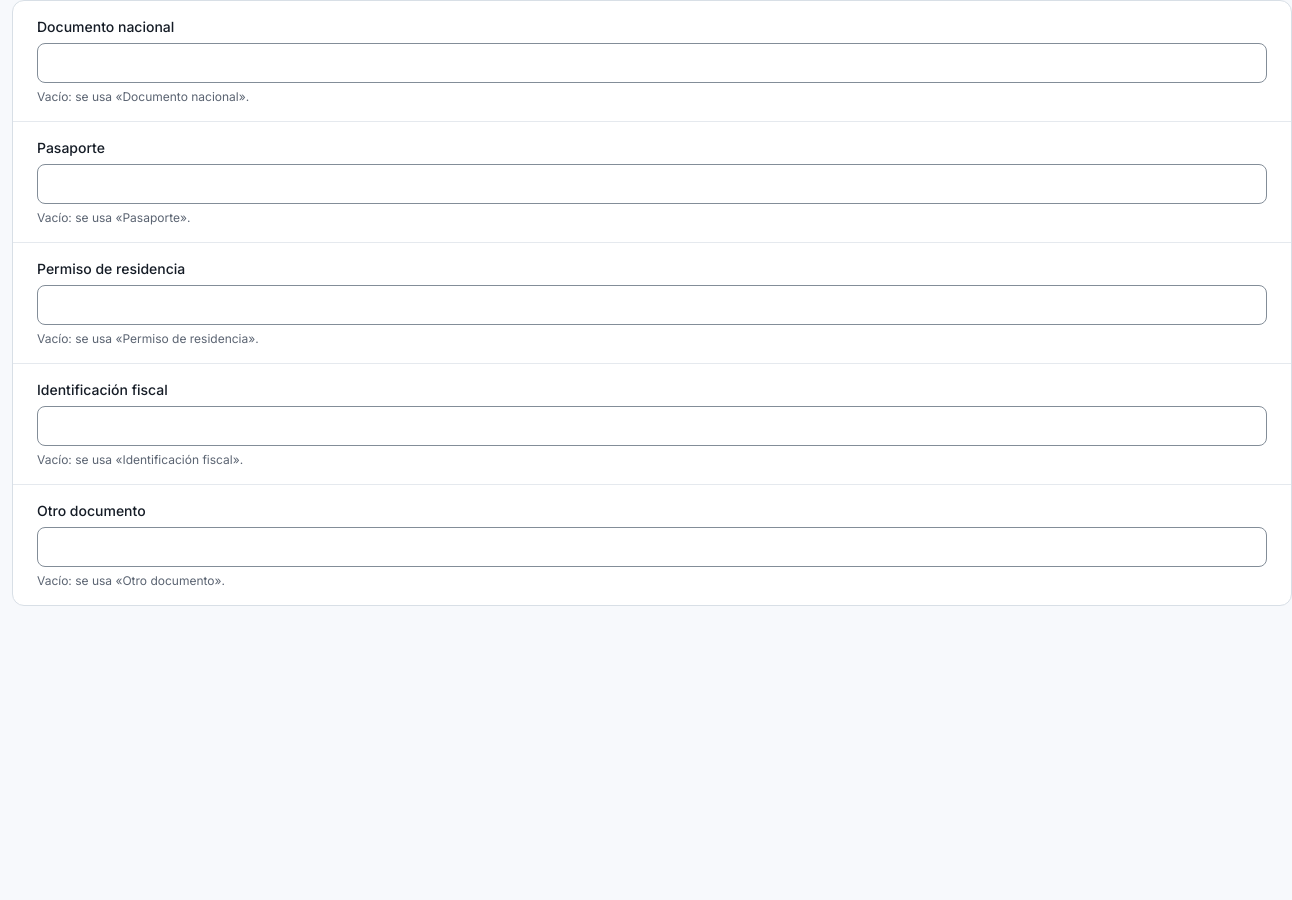
it: DocumentTypeNamesSettingsSection (DX-327) › after saving, the bar goes away and focus lands on «Nombres guardados.», not on <body>
Type "Doc" into the field labelled "Pasaporte" at (652, 184), box top-left (37, 164), bottom-right (1267, 204)
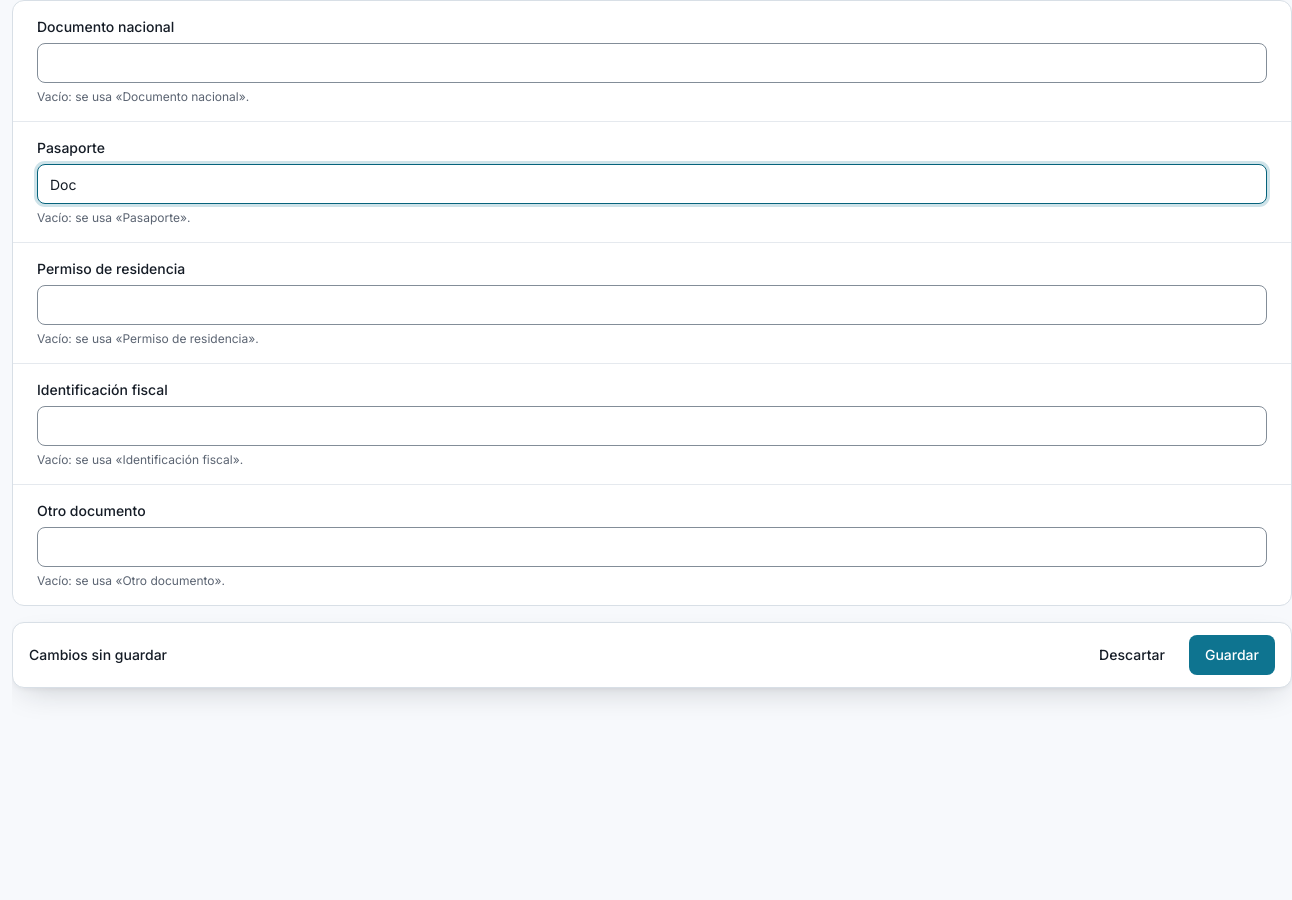
Click the button "Guardar" at (1232, 655), box top-left (1189, 635), bottom-right (1275, 675)
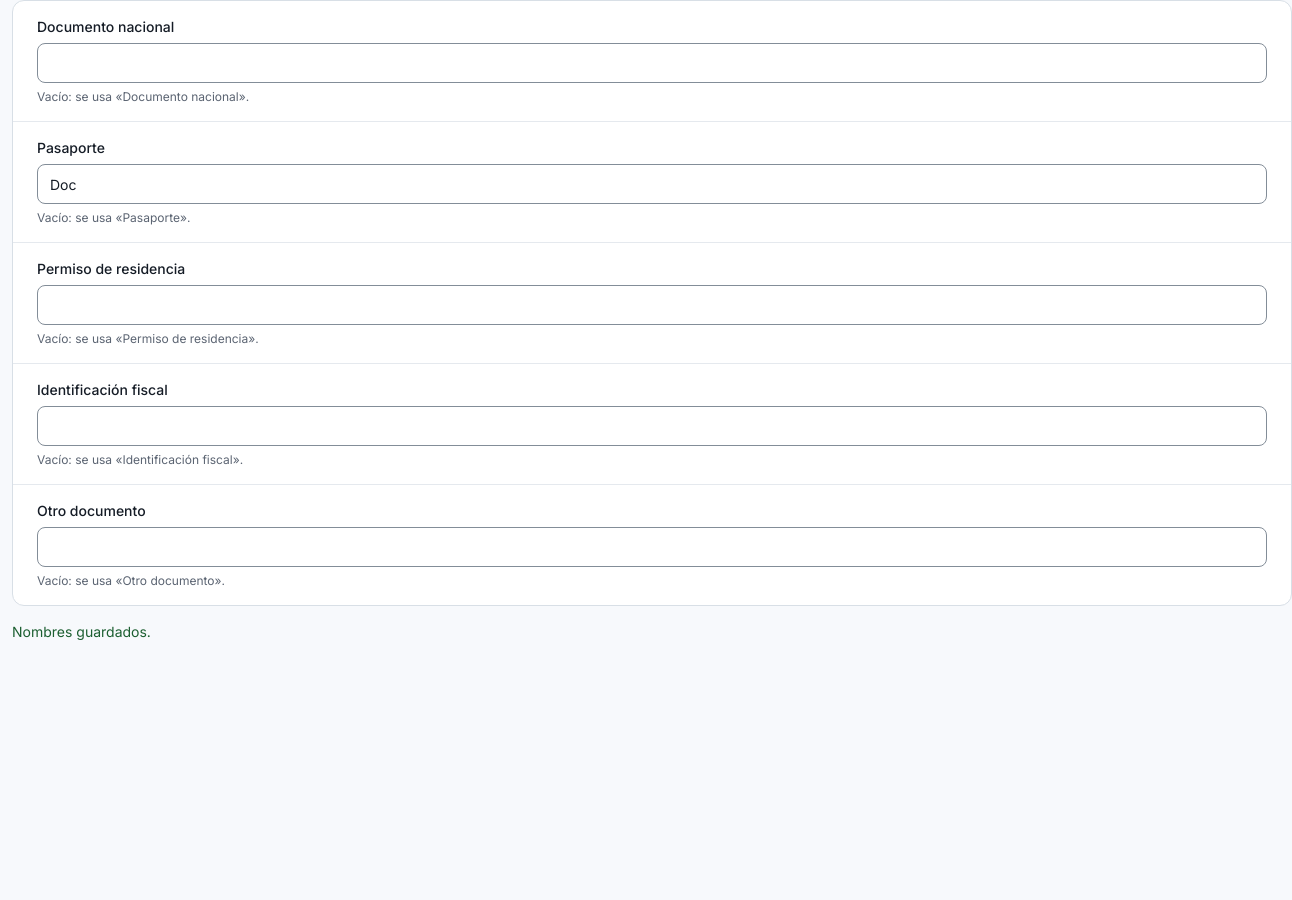
Result: the text "guardar" is gone
